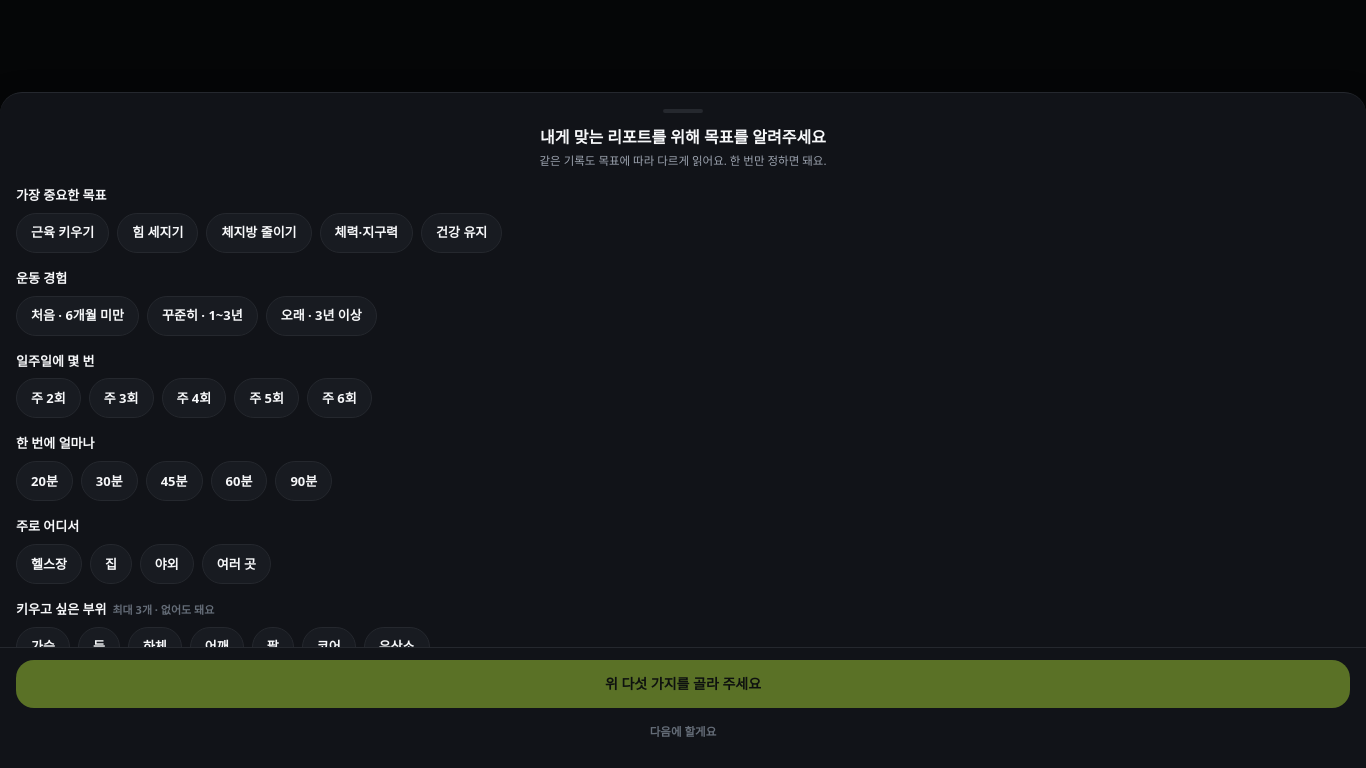
Test: TrainingProfileSheet › 저장이 실패하면 시트를 닫지 않고 오류를 보여 준다
The width and height of the screenshot is (1366, 768).
Click the button "근육 키우기". click: (63, 233)
box: [16, 213, 109, 253]
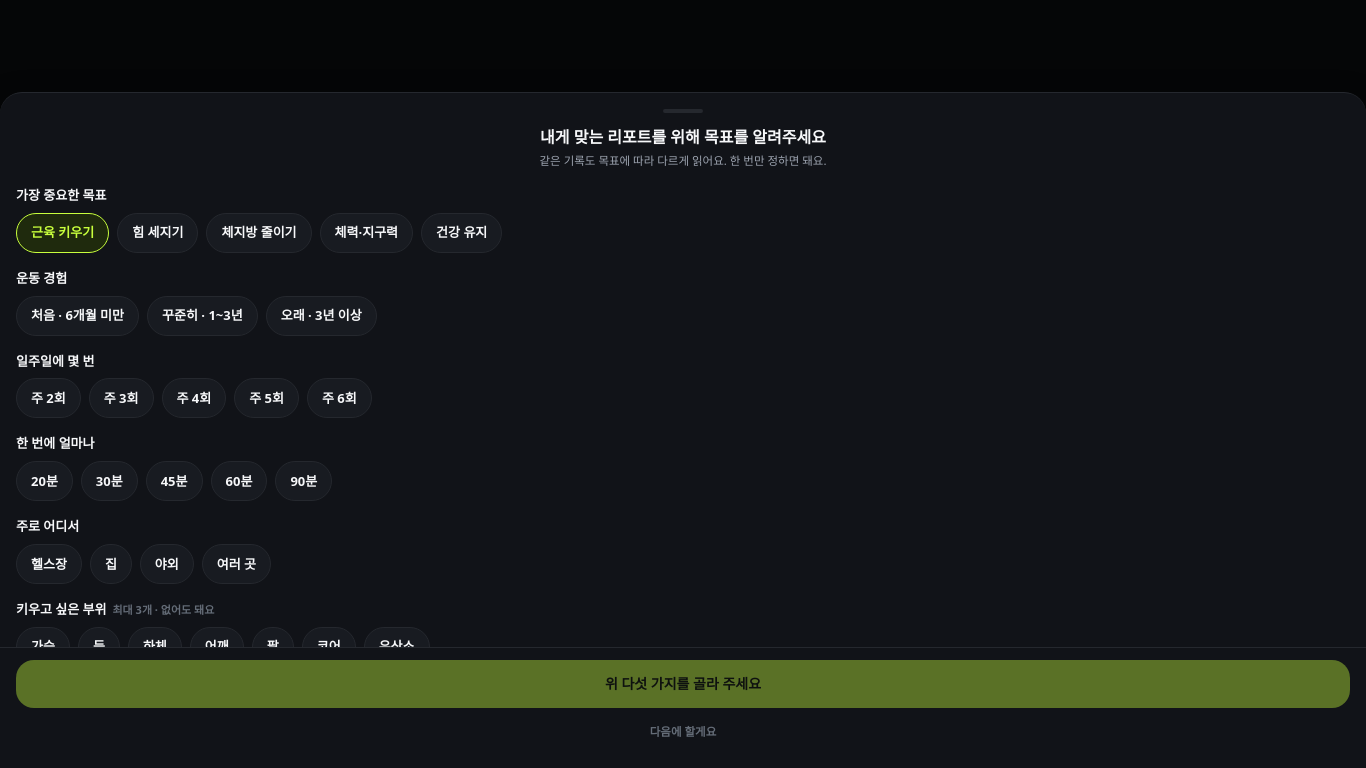
Click the button "꾸준히 · 1~3년". click: (202, 316)
box: [147, 296, 258, 336]
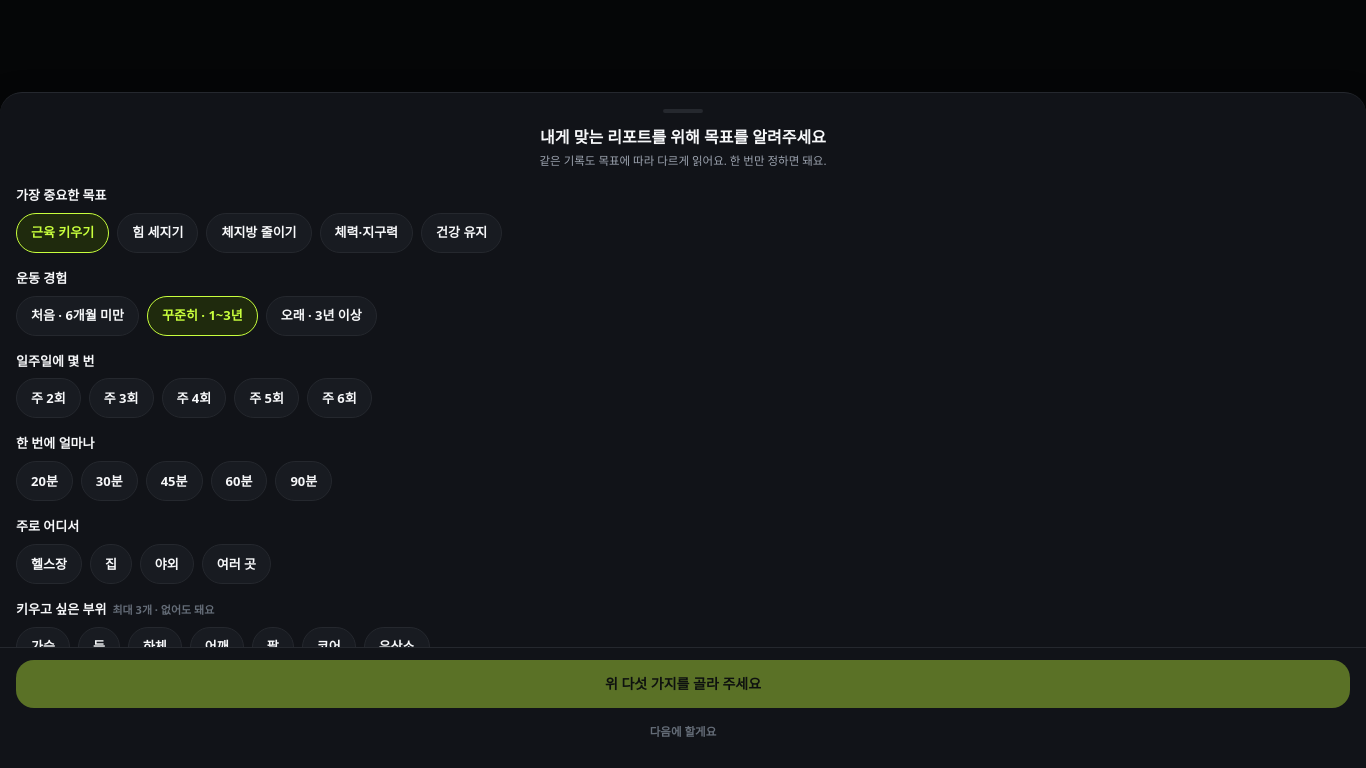
Click the button "주 4회". click: (194, 398)
box: [162, 378, 226, 418]
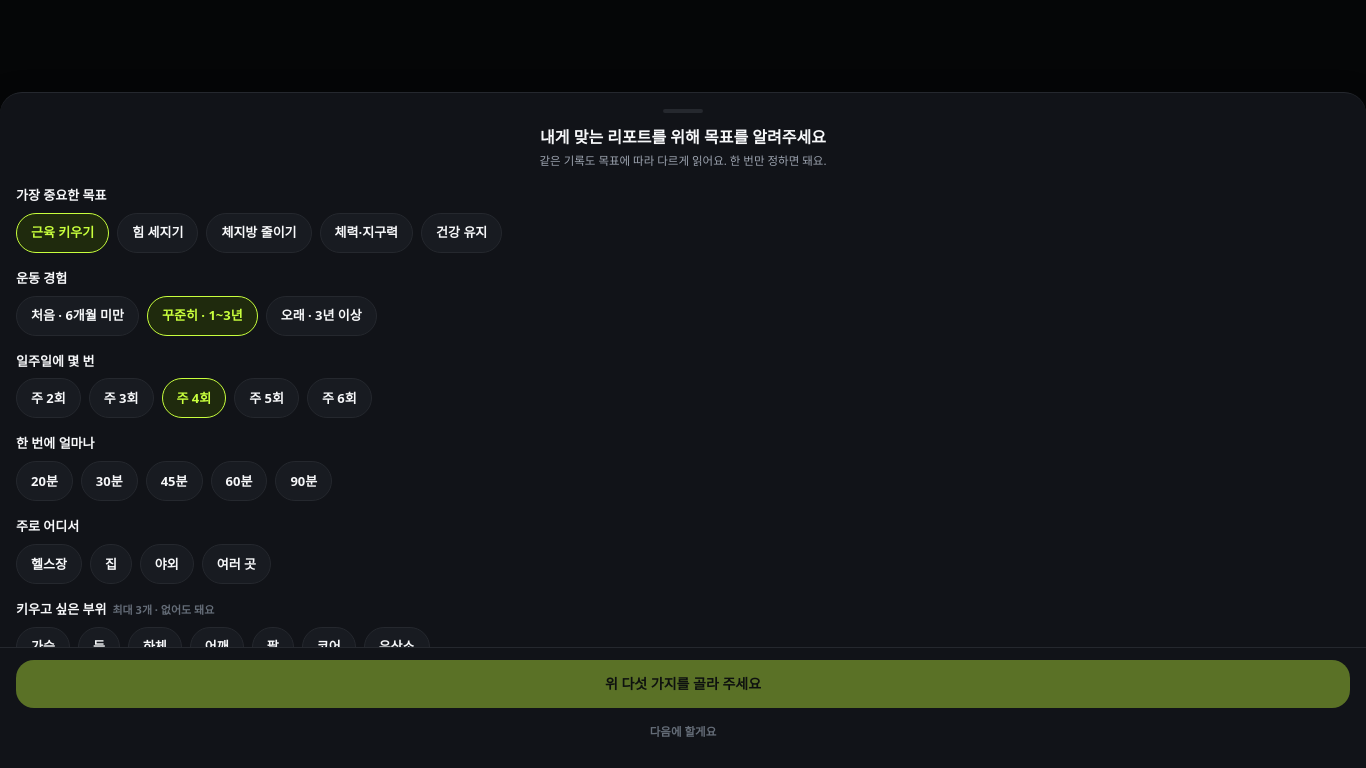
Click the button "60분". click: (239, 481)
box: [210, 461, 267, 501]
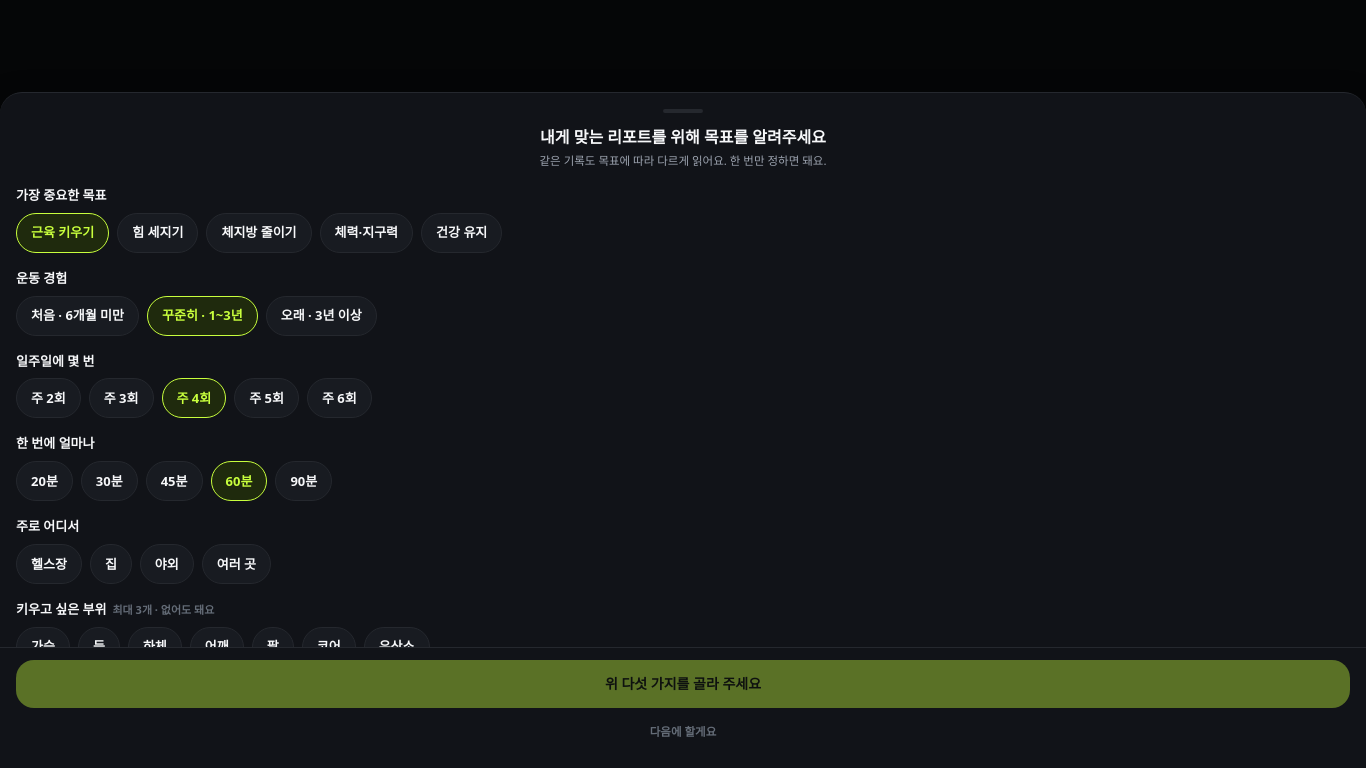
Click the button "헬스장". click: (49, 564)
box: [16, 544, 82, 584]
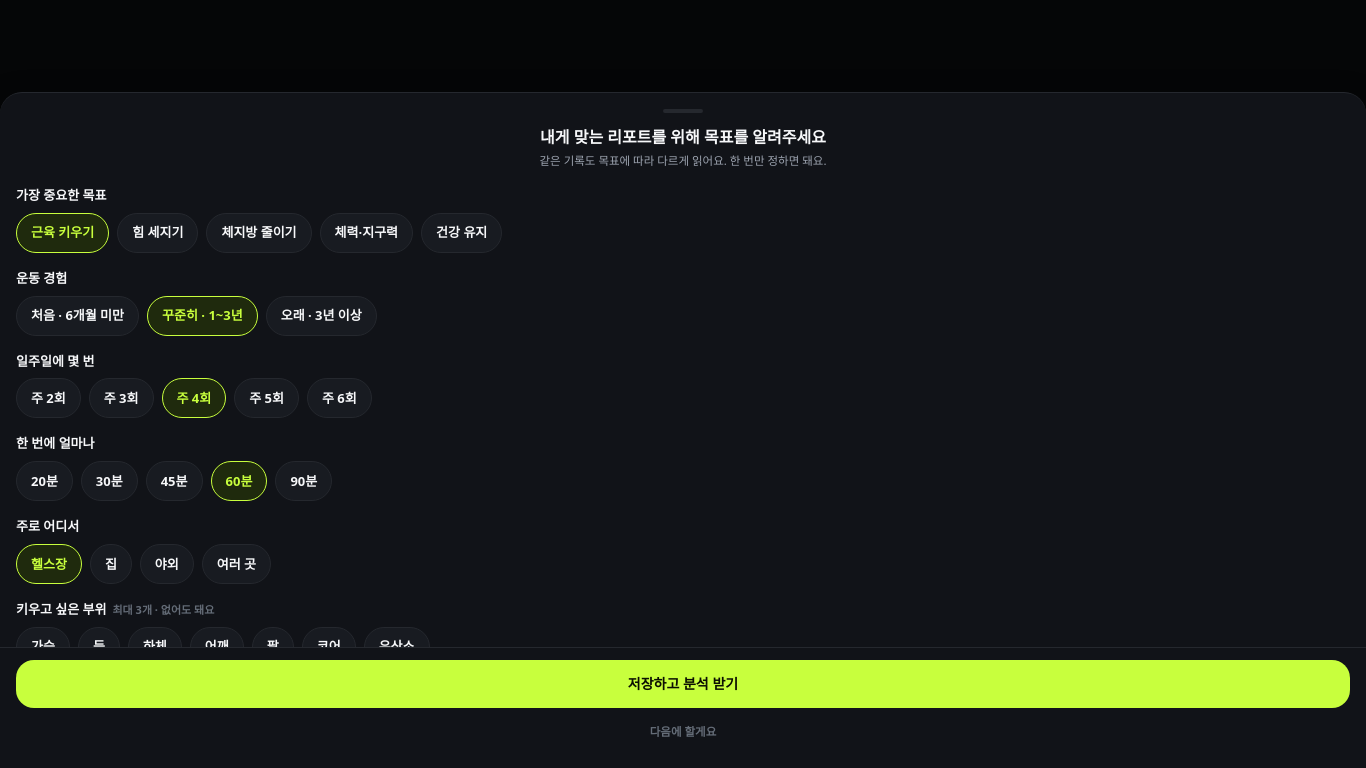
Click the button "저장하고 분석 받기". click: (683, 684)
box: [16, 660, 1350, 708]
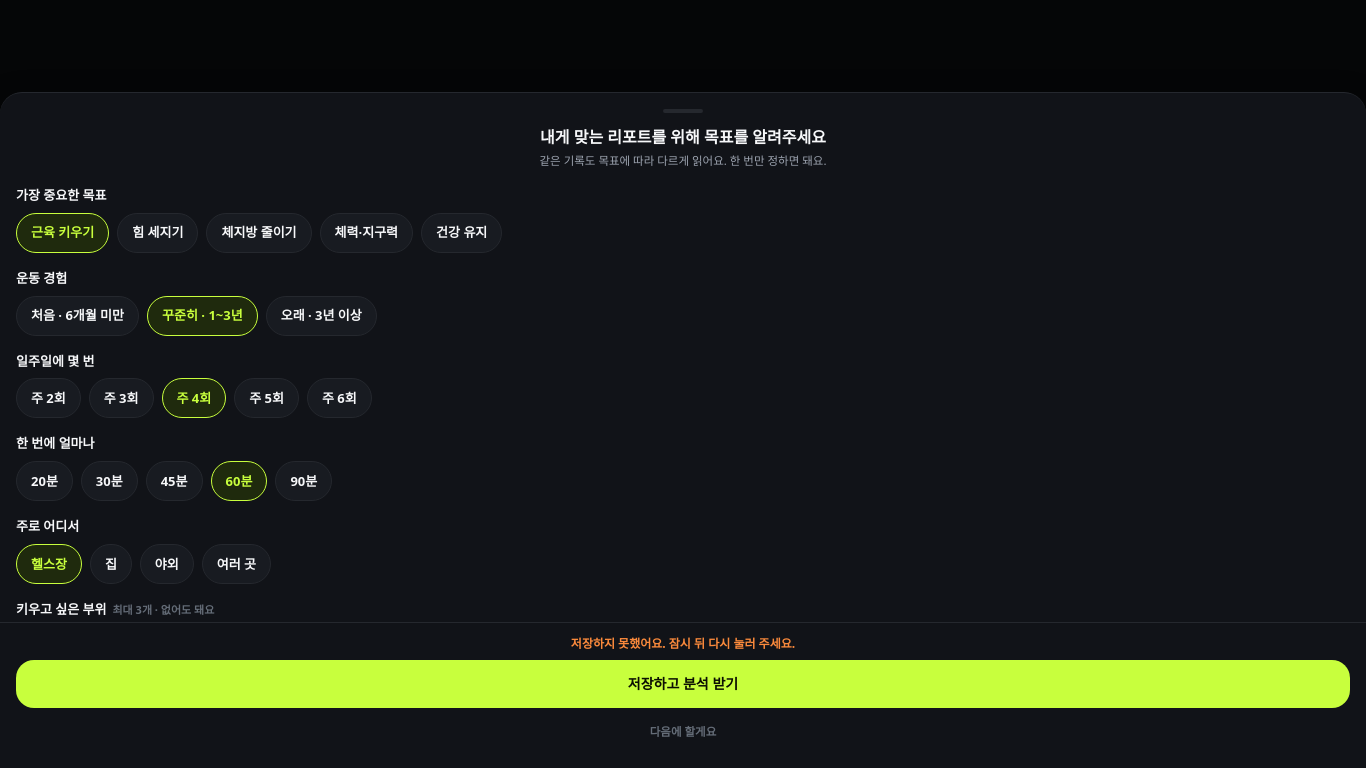
Now the text "저장하지 못했어요. 잠시 뒤 다시 눌러 주세요." is shown, box [571, 635, 795, 652]
